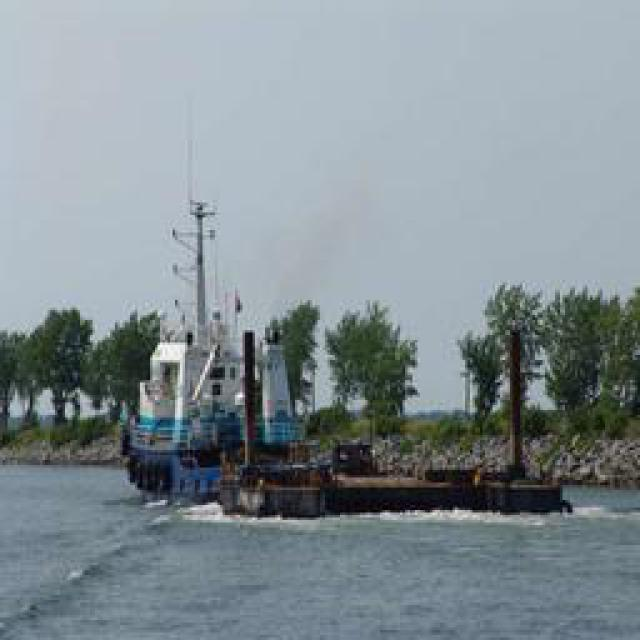Ship: (123, 181, 318, 491)
